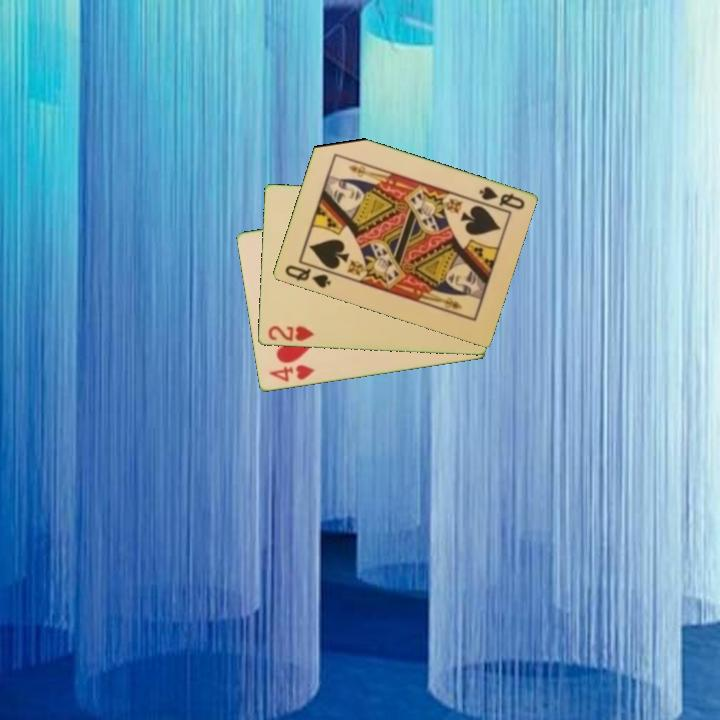2h: (264, 322, 317, 345)
4h: (265, 361, 317, 385)
Qs: (475, 183, 527, 213), (281, 262, 333, 291)
